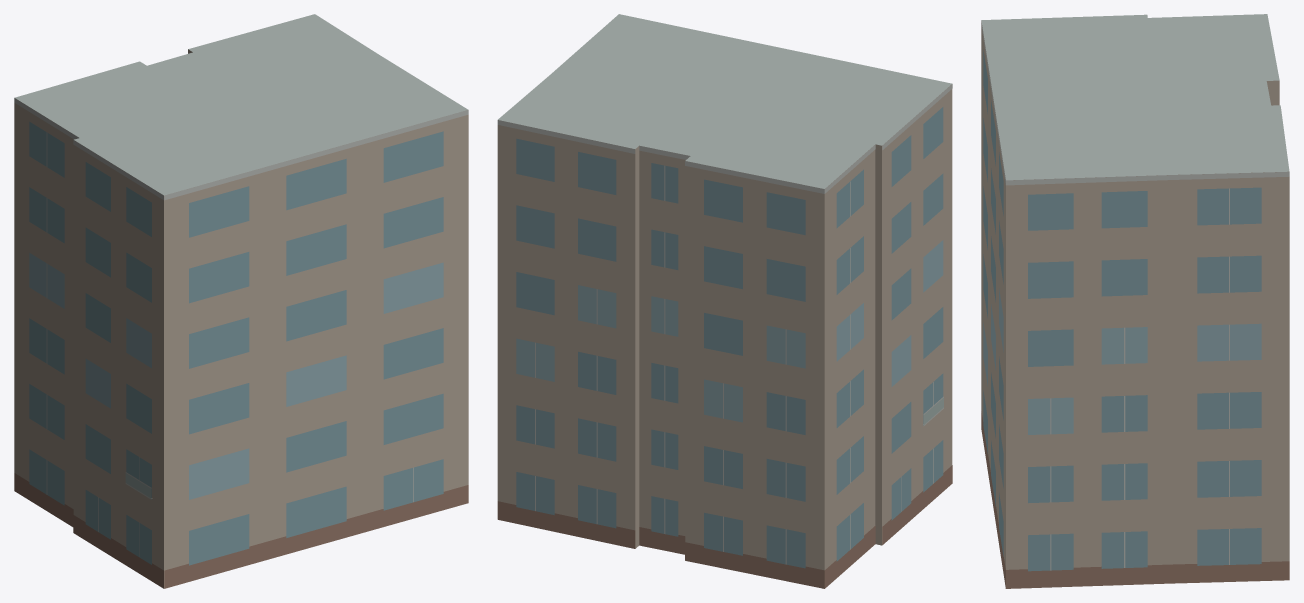
Rendered from survey-upis-32915095.glb.
3 views of the same model, side by side, from view 1: azimuth 30°, elevation 25°; view 2: azimuth 150°, elevation 25°; view 3: azimuth 270°, elevation 25° (orthographic). The views are drawn at different scales.
Parts seen in each view (by area): view 1: survey-upis-32915095.tmp; view 2: survey-upis-32915095.tmp; view 3: survey-upis-32915095.tmp.
Part boxes in pixels (<box>): survey-upis-32915095.tmp: <box>14,14,468,588</box>; survey-upis-32915095.tmp: <box>497,14,952,588</box>; survey-upis-32915095.tmp: <box>981,14,1289,588</box>.
Bounding box in the file's own units: 17.21 × 19.7 × 13.48.
